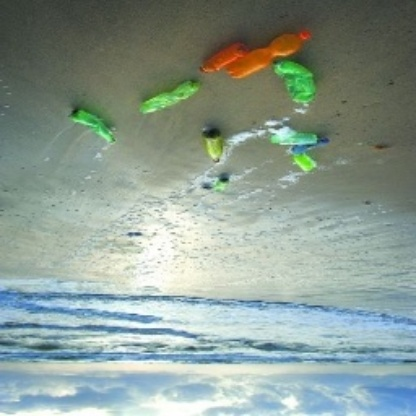bottle: (137, 77, 202, 121), (272, 57, 319, 107), (69, 105, 119, 146), (268, 127, 331, 151), (203, 128, 227, 164)
